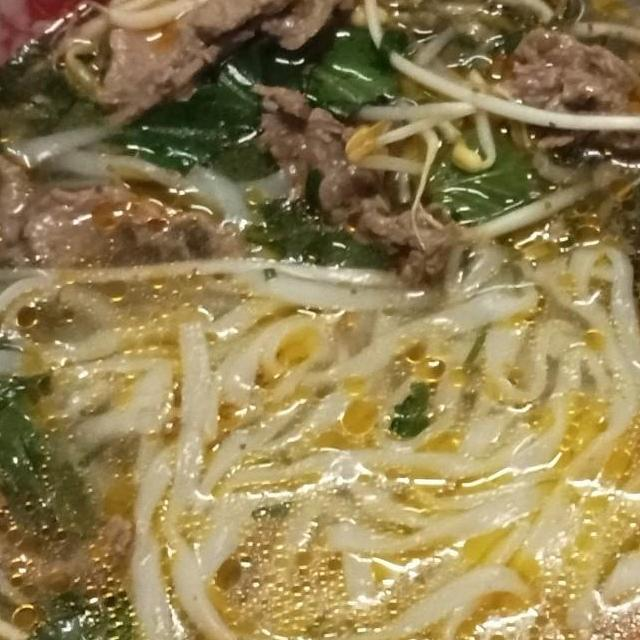banh pho: (110, 233, 640, 640), (0, 252, 336, 464)
pho bo: (0, 0, 640, 640)
thit bo: (240, 67, 470, 290), (83, 0, 381, 121), (0, 139, 261, 277), (478, 16, 640, 166), (0, 439, 139, 611)
